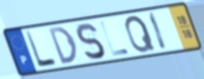D: (47, 25, 80, 66)
I: (147, 10, 169, 52)
L: (24, 30, 59, 70), (98, 20, 131, 58)
Q: (124, 14, 157, 55)
S: (75, 22, 107, 62)
